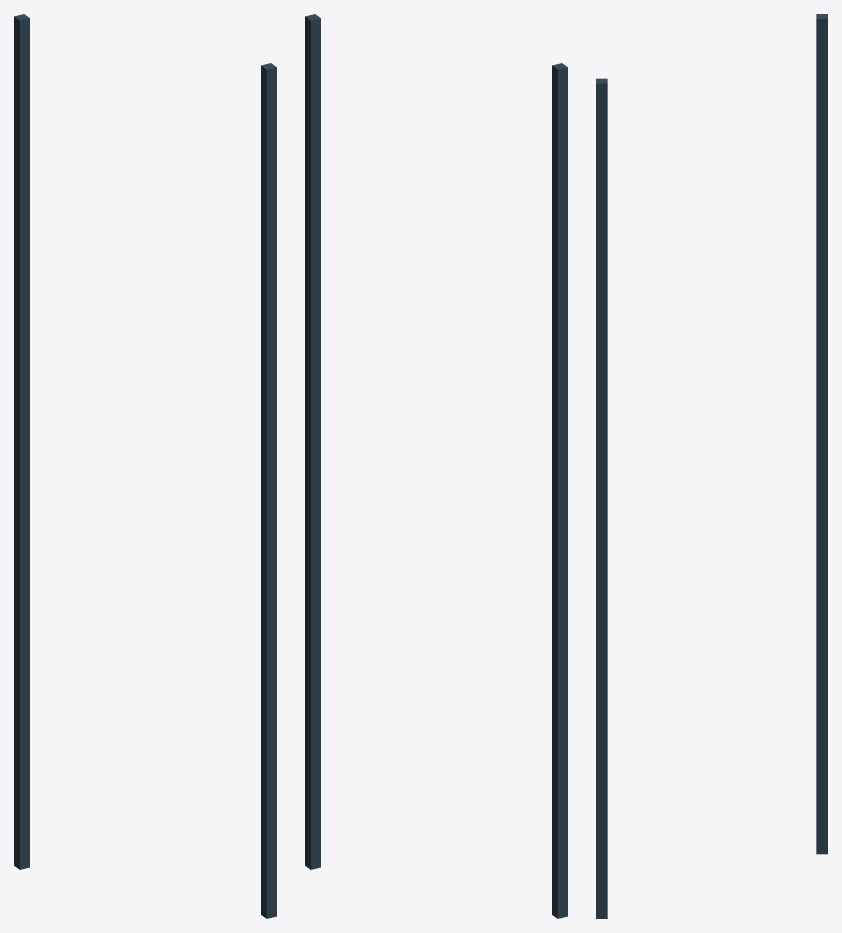
Rendered from v02-transit-world-01-01-04.glb.
3 views of the same model, side by side, from view 1: azimuth 30°, elevation 25°; view 2: azimuth 210°, elevation 25°; view 3: azimuth 270°, elevation 25° (orthographic).
Visible parts, largest first — view 1: v02-transit-world-01-01-04; view 2: v02-transit-world-01-01-04; view 3: v02-transit-world-01-01-04.
Boxes of the visible parts, box(x1,y1,x2,y2) form: v02-transit-world-01-01-04: box(14, 14, 276, 918); v02-transit-world-01-01-04: box(305, 14, 567, 918); v02-transit-world-01-01-04: box(596, 14, 827, 918).
Bounding box in the file's own units: 17.2 × 96.25 × 24.2.
